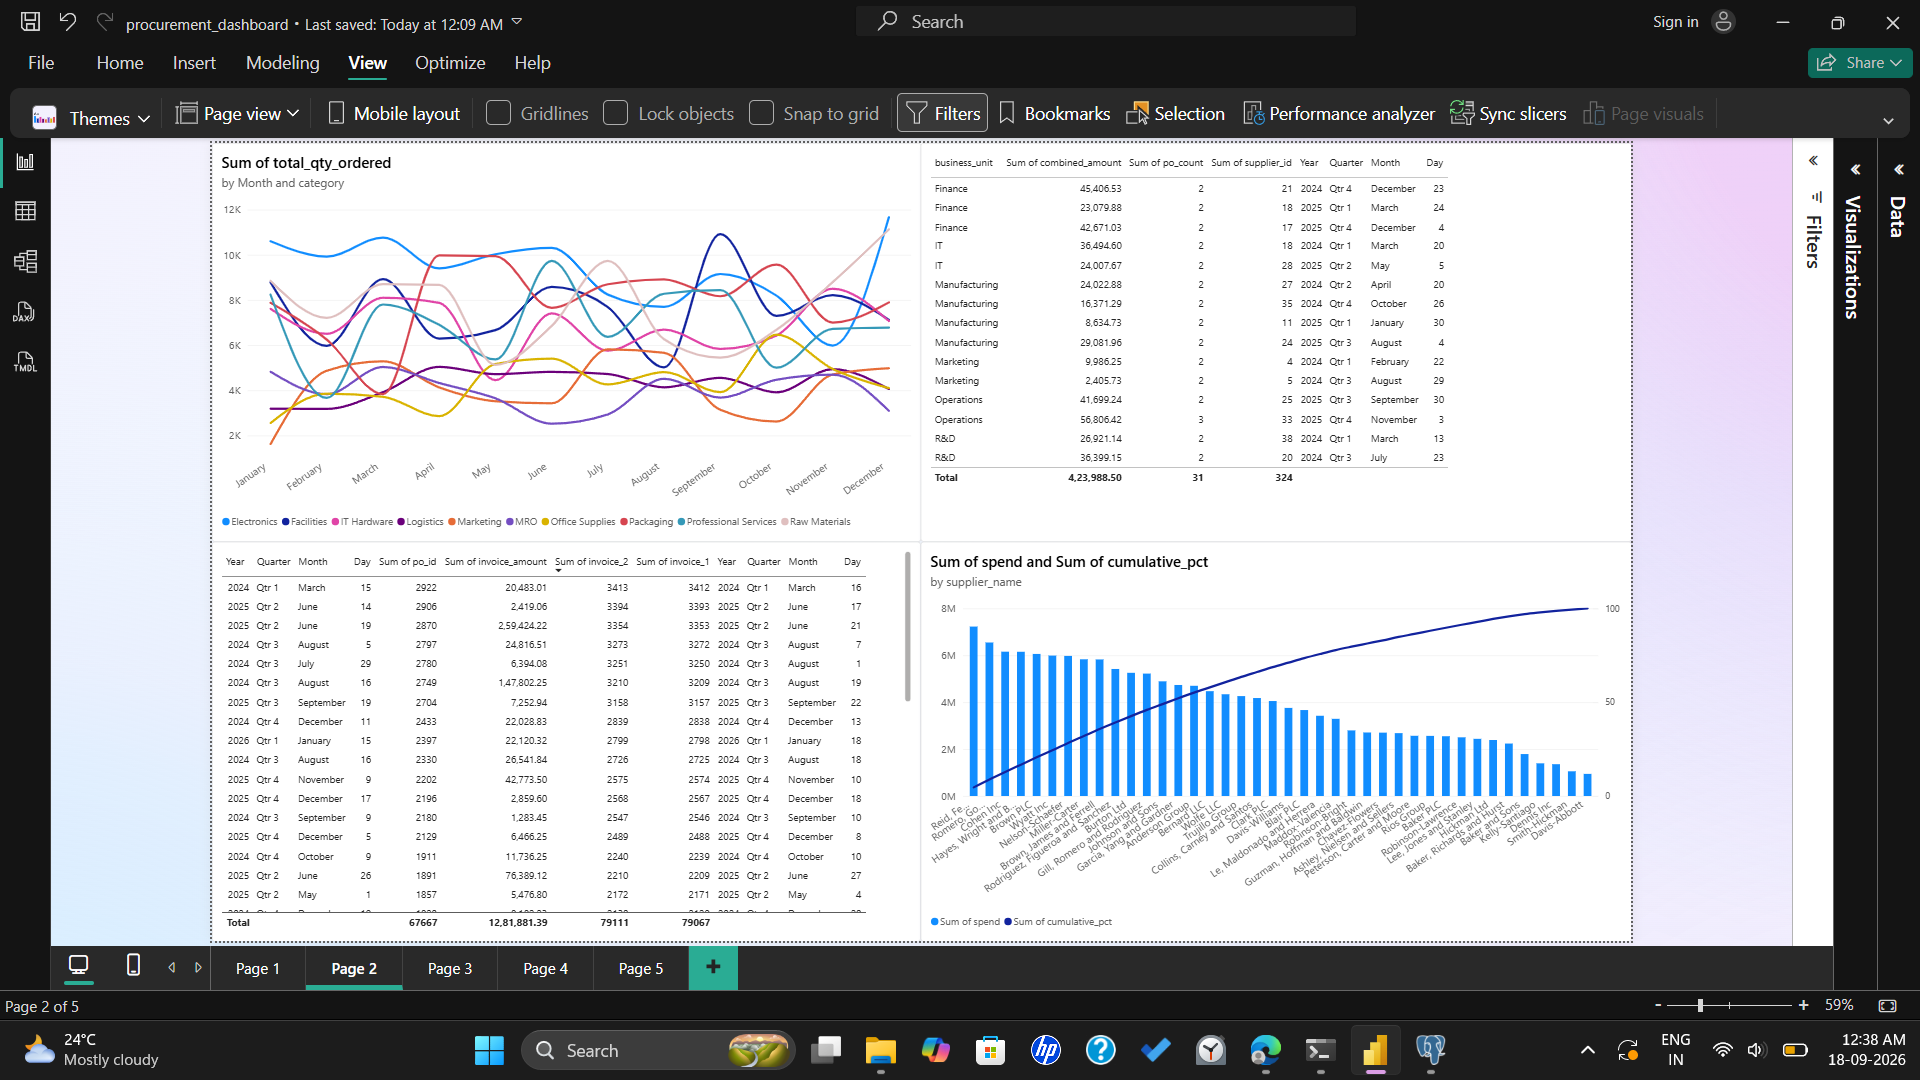

The dashboard page shown, as its layout file describes it:
{"tool":"powerbi","page":{"name":"Page 2","canvas":[1920,1080],"ordinal":1},"visuals":[{"type":"lineChart","fields":{"Category":["v_demand_forecast_input.month.Variation.Date Hierarchy.Month"],"Series":["v_demand_forecast_input.category"],"Y":["Sum(v_demand_forecast_input.total_qty_ordered)"]},"box":[0,0,959.2,539.3],"z":0},{"type":"tableEx","fields":{"Values":["v_duplicate_invoices.date_1.Variation.Date Hierarchy.Year","v_duplicate_invoices.date_1.Variation.Date Hierarchy.Quarter","v_duplicate_invoices.date_1.Variation.Date Hierarchy.Month","v_duplicate_invoices.date_1.Variation.Date Hierarchy.Day","Sum(v_duplicate_invoices.po_id)","Sum(v_duplicate_invoices.invoice_amount)","Sum(v_duplicate_invoices.invoice_2)","Sum(v_duplicate_invoices.invoice_1)","v_duplicate_invoices.date_2.Variation.Date Hierarchy.Year","v_duplicate_invoices.date_2.Variation.Date Hierarchy.Quarter","v_duplicate_invoices.date_2.Variation.Date Hierarchy.Month","v_duplicate_invoices.date_2.Variation.Date Hierarchy.Day"]},"box":[0,549.6,959.2,531],"z":1},{"type":"tableEx","fields":{"Values":["v_split_po_candidates.business_unit","Sum(v_split_po_candidates.combined_amount)","Sum(v_split_po_candidates.po_count)","Sum(v_split_po_candidates.supplier_id)","v_split_po_candidates.order_date.Variation.Date Hierarchy.Year","v_split_po_candidates.order_date.Variation.Date Hierarchy.Quarter","v_split_po_candidates.order_date.Variation.Date Hierarchy.Month","v_split_po_candidates.order_date.Variation.Date Hierarchy.Day"]},"box":[959.2,0,961.2,539.3],"z":2},{"type":"lineClusteredColumnComboChart","fields":{"Category":["v_abc_pareto.supplier_name"],"Y":["Sum(v_abc_pareto.spend)"],"Y2":["Sum(v_abc_pareto.cumulative_pct)"]},"box":[959,550,961,530],"z":3}]}

Visuals, with their boxes on the page's 1920x1080 design canvas (x1, y1, x2, y2). These are canvas units, not pixel positions in the 1920x1080 screenshot, which may show the page scaled, cropped or inside an application window:
lineChart - v_demand_forecast_input.month.Variation.Date Hierarchy.Month x v_demand_forecast_input.category: Rect(0, 0, 959, 539)
tableEx - v_duplicate_invoices.date_1.Variation.Date Hierarchy.Year x v_duplicate_invoices.date_1.Variation.Date Hierarchy.Quarter: Rect(0, 550, 959, 1081)
tableEx - v_split_po_candidates.business_unit x Sum(v_split_po_candidates.combined_amount): Rect(959, 0, 1920, 539)
lineClusteredColumnComboChart - v_abc_pareto.supplier_name x Sum(v_abc_pareto.spend): Rect(959, 550, 1920, 1080)
